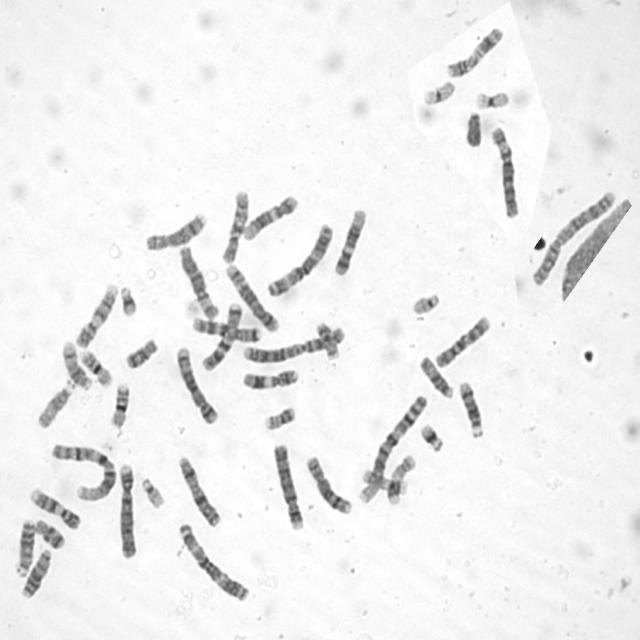A1: (356, 390, 428, 505), (48, 438, 118, 502)
A2: (527, 184, 619, 288), (238, 320, 346, 364)
A3: (173, 516, 251, 603), (262, 218, 335, 298)
B4: (269, 438, 305, 532), (114, 459, 138, 560)
B5: (221, 259, 280, 333), (172, 341, 219, 426)
C10: (430, 310, 492, 370), (217, 185, 251, 264)
C11: (442, 21, 504, 79), (238, 364, 300, 391)
C12: (238, 190, 299, 241), (330, 204, 368, 277)
C6: (174, 240, 220, 321), (487, 122, 522, 220)
C7: (197, 298, 243, 372), (188, 313, 262, 343)
C8: (302, 451, 353, 516), (140, 207, 208, 252)
C9: (71, 278, 119, 349), (26, 483, 81, 531)
D13: (17, 544, 53, 599), (10, 515, 36, 578)
D14: (58, 336, 93, 391), (455, 376, 485, 439)
D15: (34, 375, 76, 431), (415, 351, 455, 400)
E16: (75, 345, 114, 388), (106, 379, 130, 428)
E17: (382, 449, 418, 506), (360, 466, 410, 496)
E18: (120, 333, 160, 370), (30, 514, 66, 551)
F19: (418, 75, 457, 106), (470, 84, 511, 110)
F20: (312, 317, 341, 361), (260, 401, 297, 432)
G21: (416, 419, 446, 453), (115, 281, 138, 318)
G22: (137, 473, 166, 510), (408, 287, 442, 316)
X: (173, 451, 222, 529)
Y: (461, 107, 483, 148)
